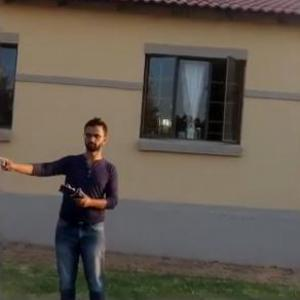follow: (0, 113, 128, 299)
